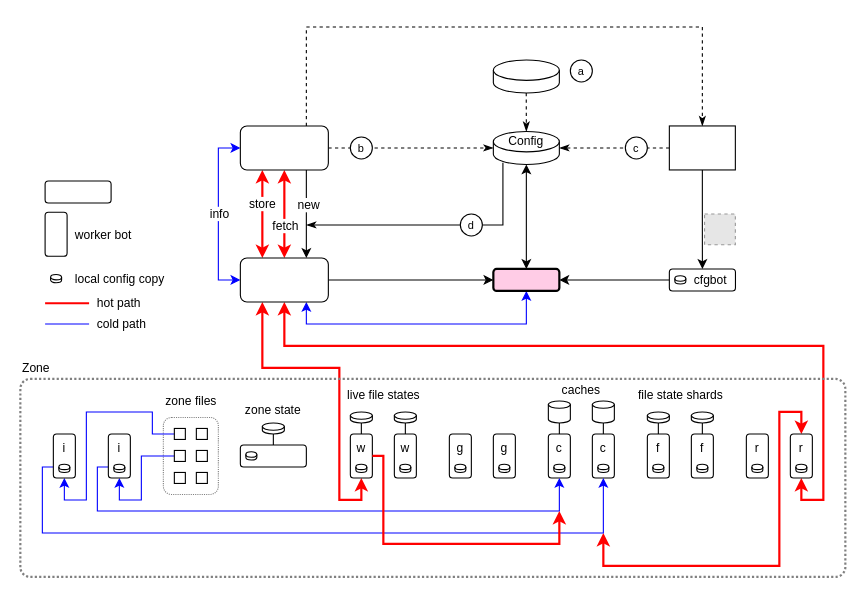
The diagram is 865 pixels wide and 597 high, and some of its shapes have lost their labels. Grey dashed boxes stand in for pictures. The shapes that lost their labels are listed below. From the top down, each one's box as (x1, y1, x2, y2) in pixels, then its label:
(239, 125, 328, 170): User
(668, 125, 735, 170): config.jdat
(44, 180, 111, 203): solo bot
(239, 257, 328, 302): O3db
(492, 267, 560, 292): supervisor
(239, 444, 306, 467): zbot
